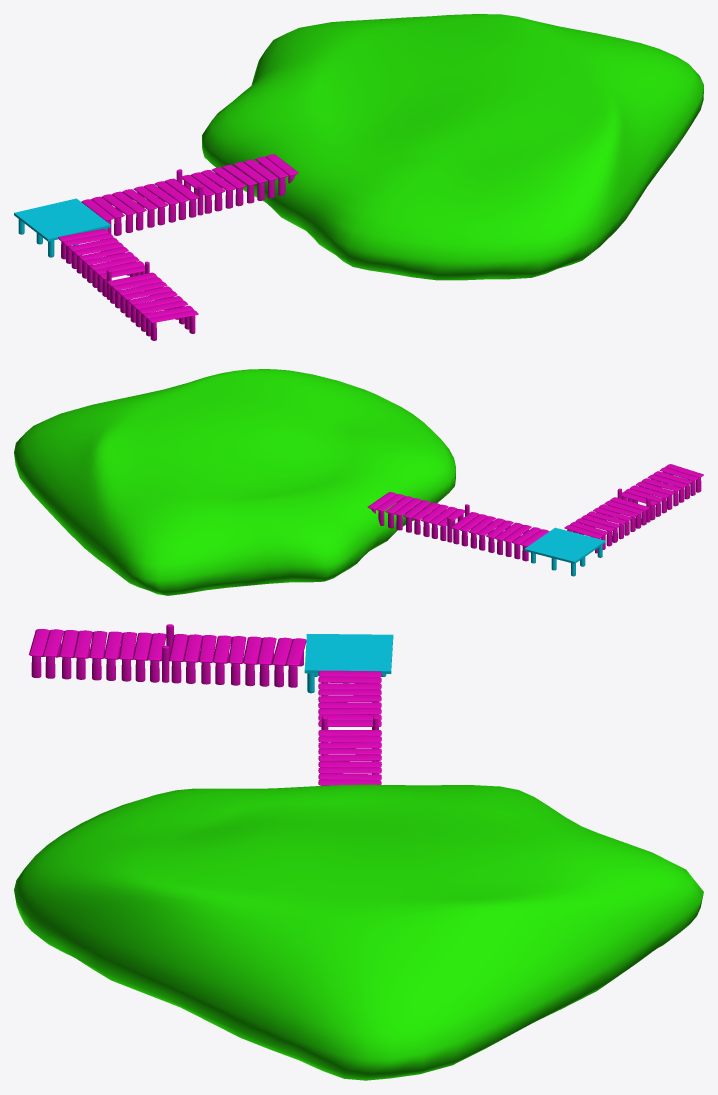
File: SwampDockAndLand.fbx
3 renders of one model, top to bottom at view 1: azimuth 30°, elevation 25°; view 2: azimuth 150°, elevation 25°; view 3: azimuth 270°, elevation 25°, orthographic. The views are drawn at different scales.
Visible parts, largest first — view 1: Ground, Dock, MidDock; view 2: Ground, Dock, MidDock; view 3: Ground, Dock, MidDock.
Part boxes in pixels (<box>): Ground: <box>202,14,703,280</box>; Dock: <box>58,154,298,340</box>; MidDock: <box>14,198,110,257</box>; Ground: <box>14,369,455,595</box>; Dock: <box>367,464,703,561</box>; MidDock: <box>524,527,605,576</box>; Ground: <box>14,784,703,1080</box>; Dock: <box>29,624,381,785</box>; MidDock: <box>304,634,393,693</box>.
Size of the model in its own units: 60.03 by 9.5 by 43.21.
